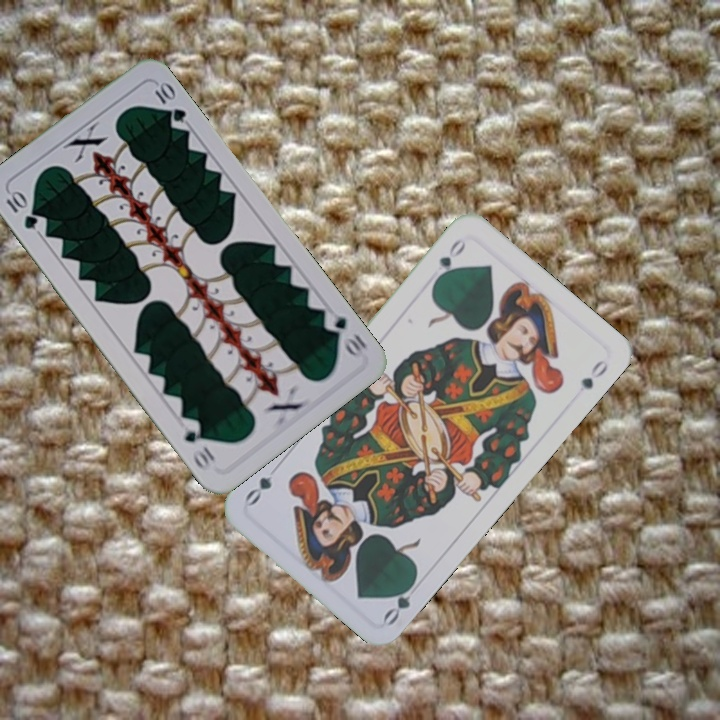G10: (319, 306, 370, 360), (2, 187, 41, 232)
GO: (379, 574, 419, 628), (430, 234, 469, 286)
